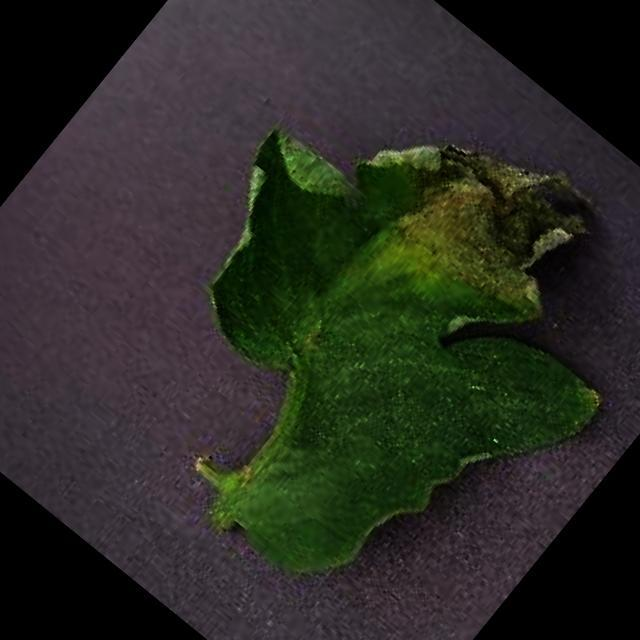Tomato late blight leaf: (53, 14, 640, 640)
